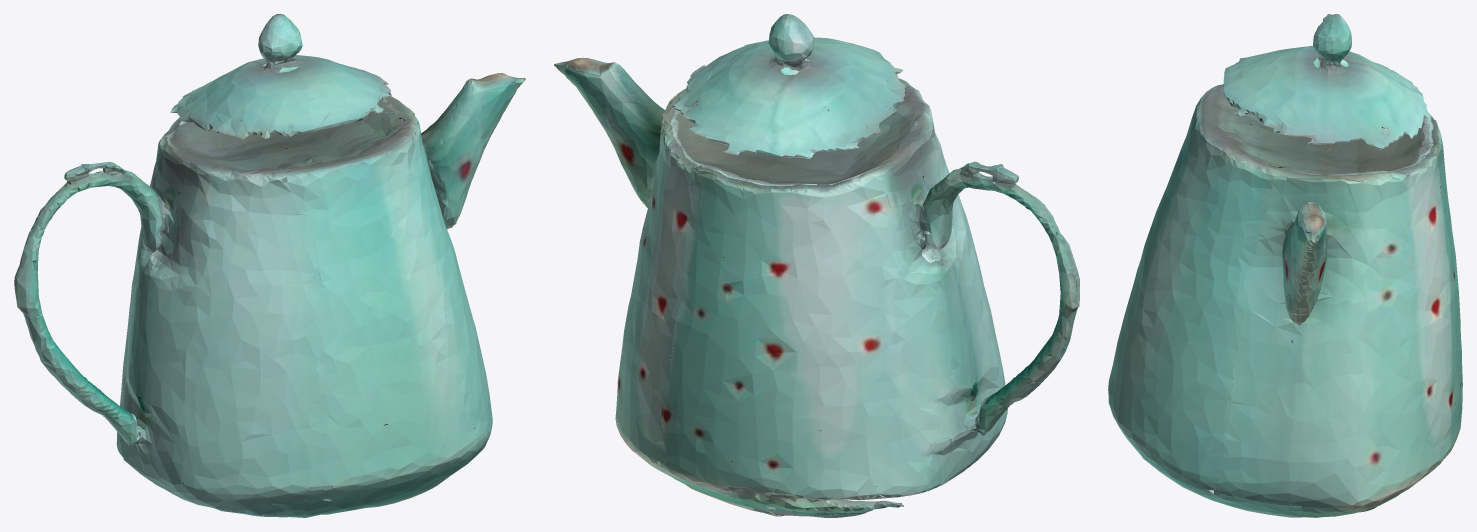
The model's file is teapot.glb.
The picture shows the model from 3 angles, left to right: view 1: azimuth 30°, elevation 25°; view 2: azimuth 150°, elevation 25°; view 3: azimuth 270°, elevation 25°; orthographic projection. The views are drawn at different scales.
Visible parts, largest first — view 1: world; view 2: world; view 3: world.
Boxes of the visible parts, x1,y1,x2,y2 form: world: (14,14,525,517); world: (554,14,1079,517); world: (1108,14,1462,517).
Bounding box in the file's own units: 0.9543 × 0.8282 × 0.5811.
1 material, 1 textured.
